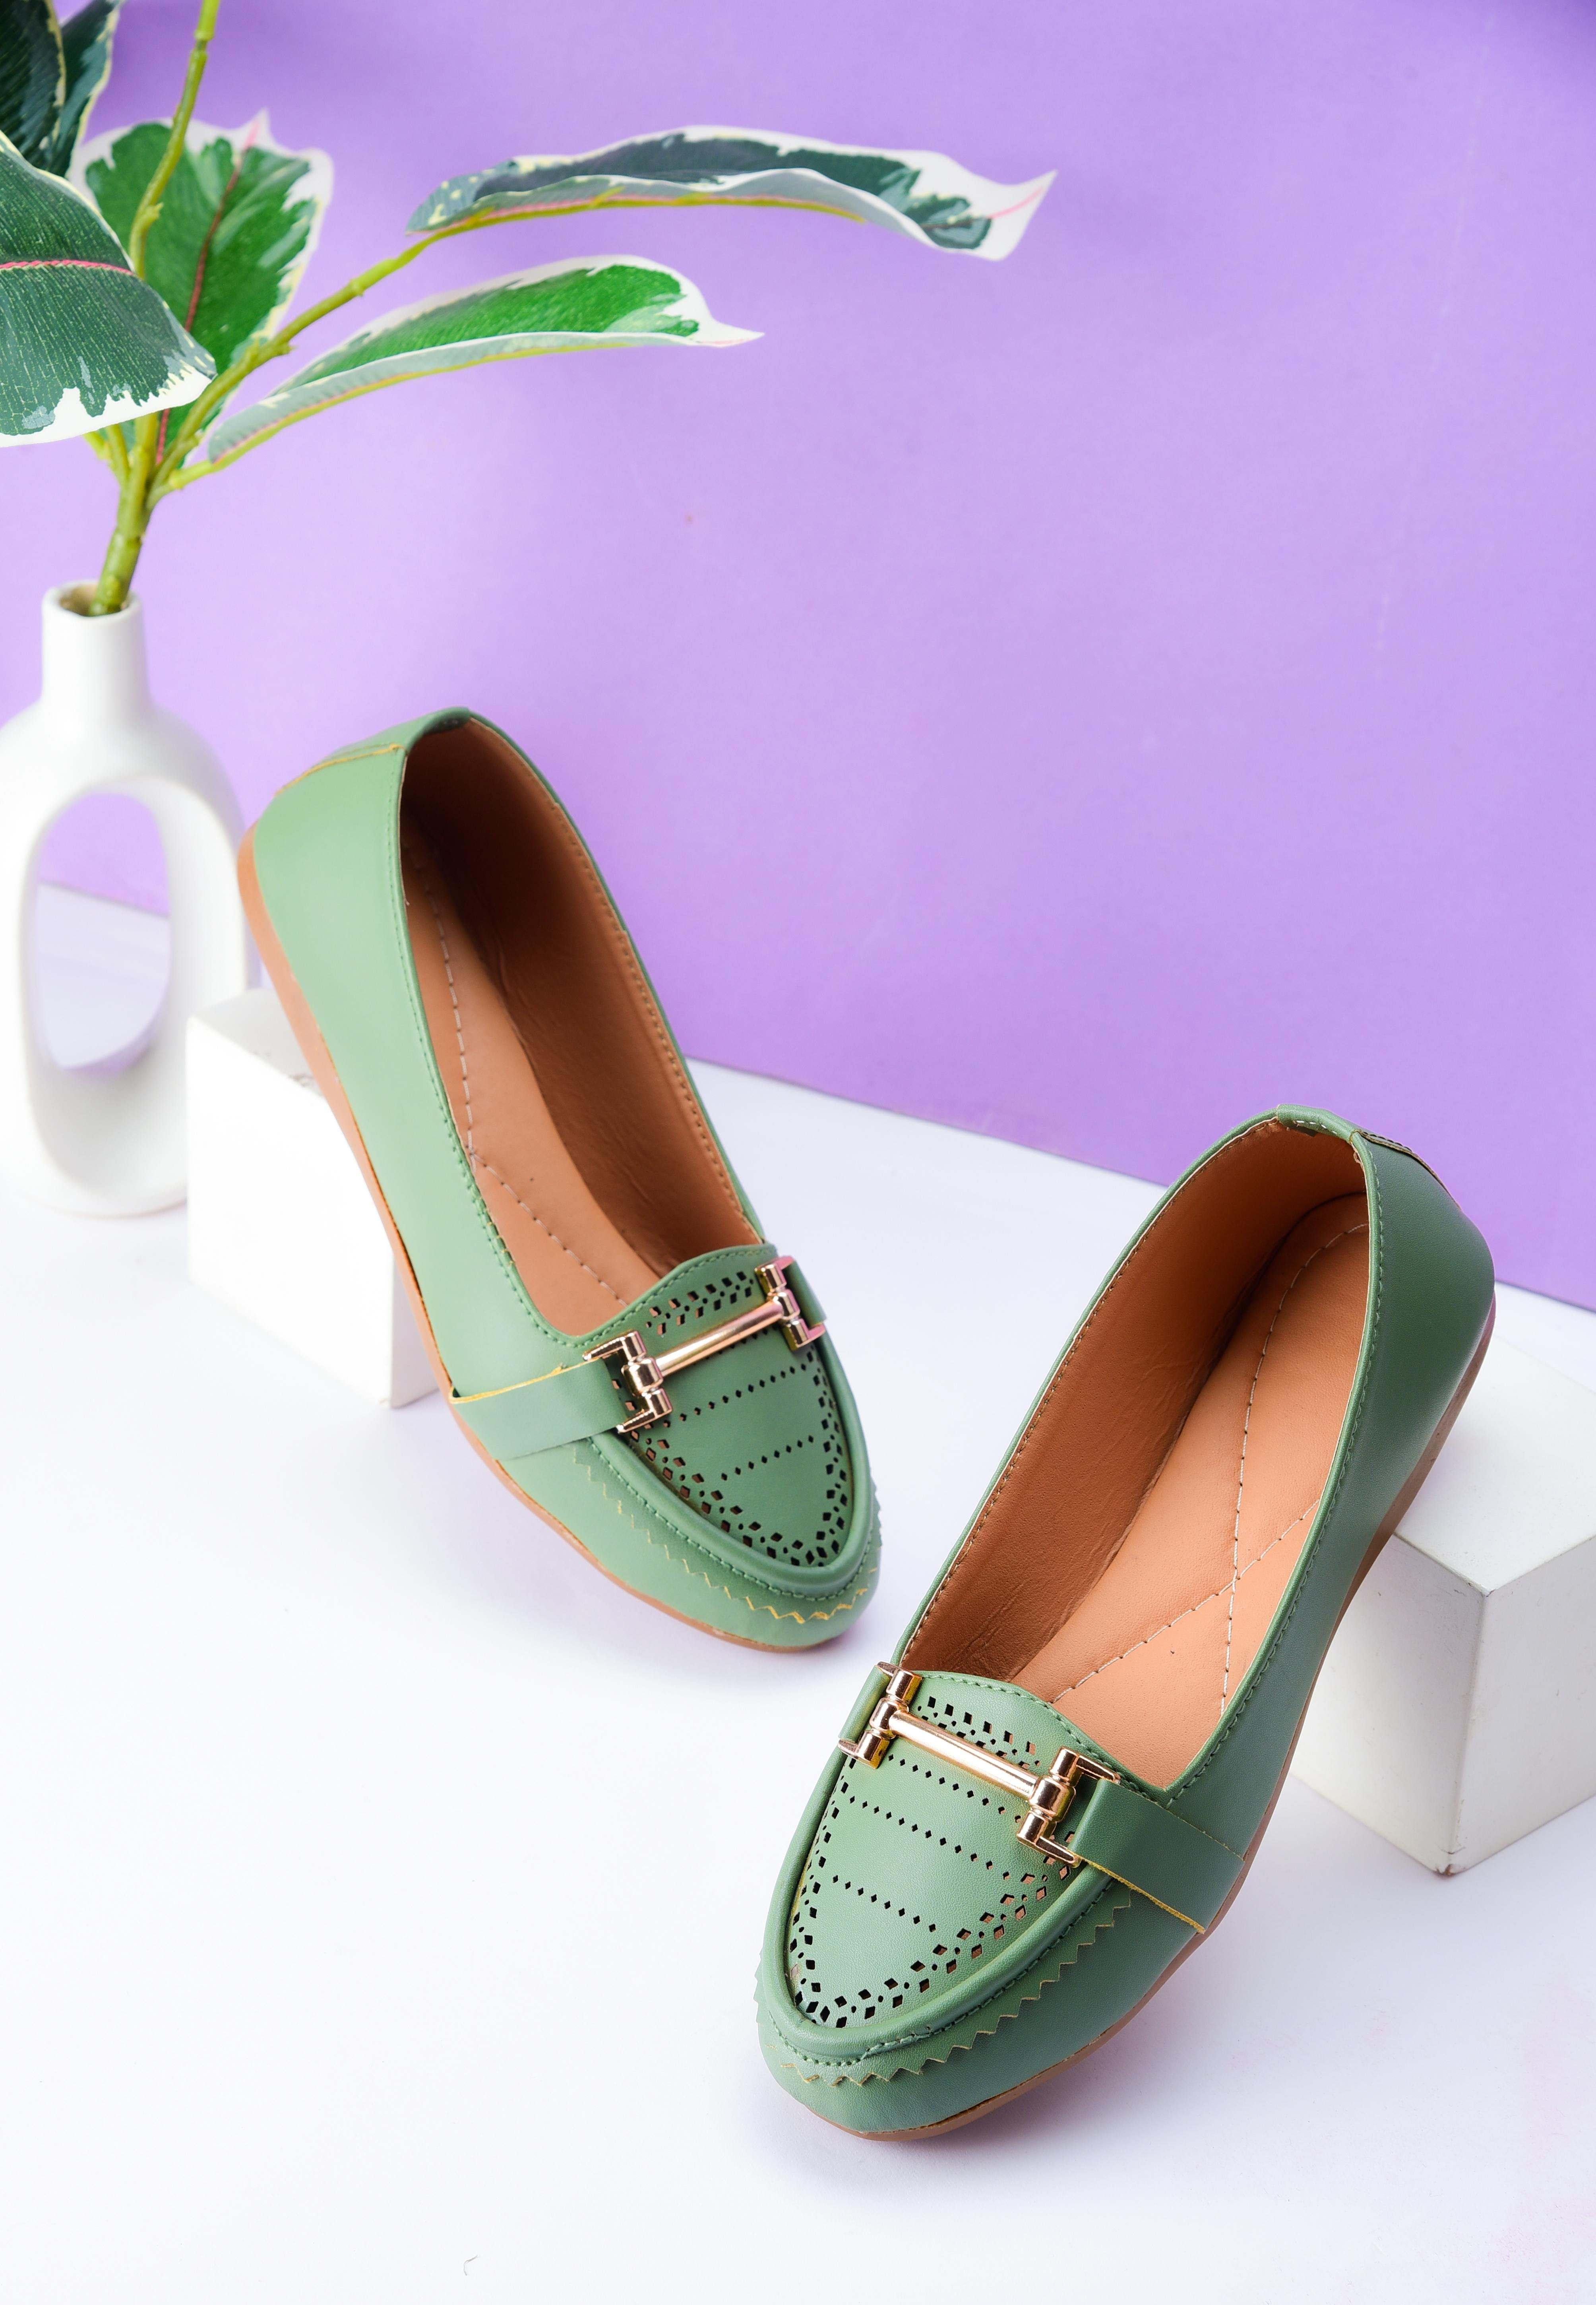Footwear: (699, 1033, 1526, 2119), (207, 671, 893, 1652)
